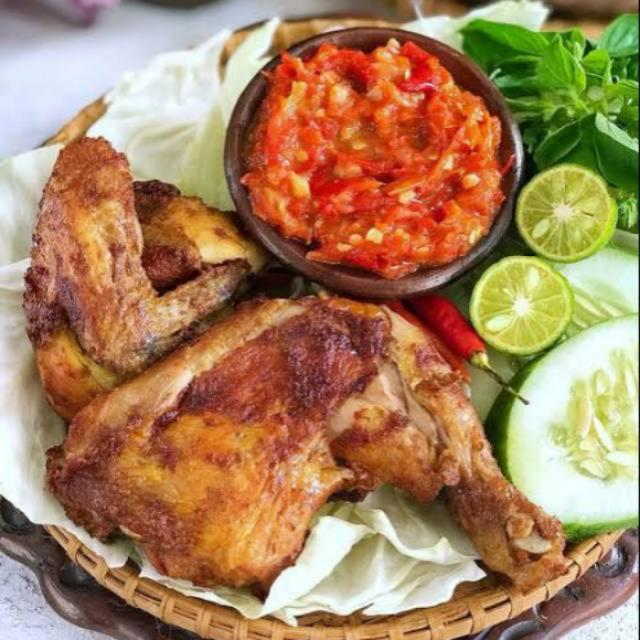ayam_goreng: (14, 136, 551, 573)
